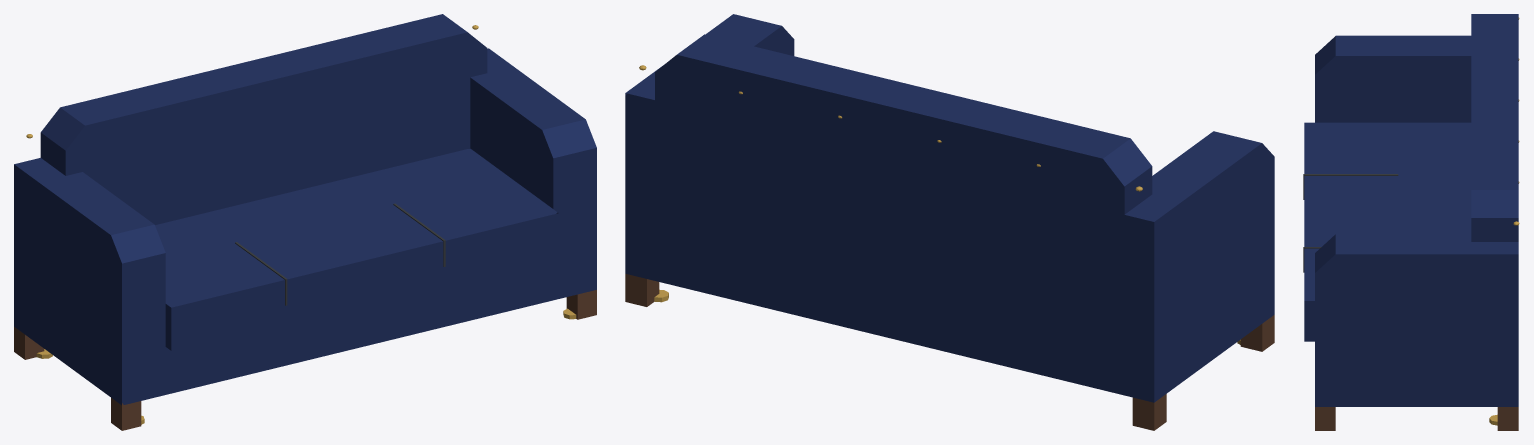
File: loungeSofa.glb
The picture shows the model from 3 angles, left to right: view 1: azimuth 30°, elevation 25°; view 2: azimuth 150°, elevation 25°; view 3: azimuth 270°, elevation 25°; orthographic projection. The views are drawn at different scales.
Parts seen in each view (by area): view 1: loungeSofa(Clone); view 2: loungeSofa(Clone); view 3: loungeSofa(Clone).
Part boxes in pixels (left/top/right/bottom): loungeSofa(Clone): left=14, top=14, right=596, bottom=430; loungeSofa(Clone): left=625, top=14, right=1274, bottom=430; loungeSofa(Clone): left=1303, top=14, right=1519, bottom=430.
Size of the model in its own units: 0.98 by 0.46 by 0.41.
